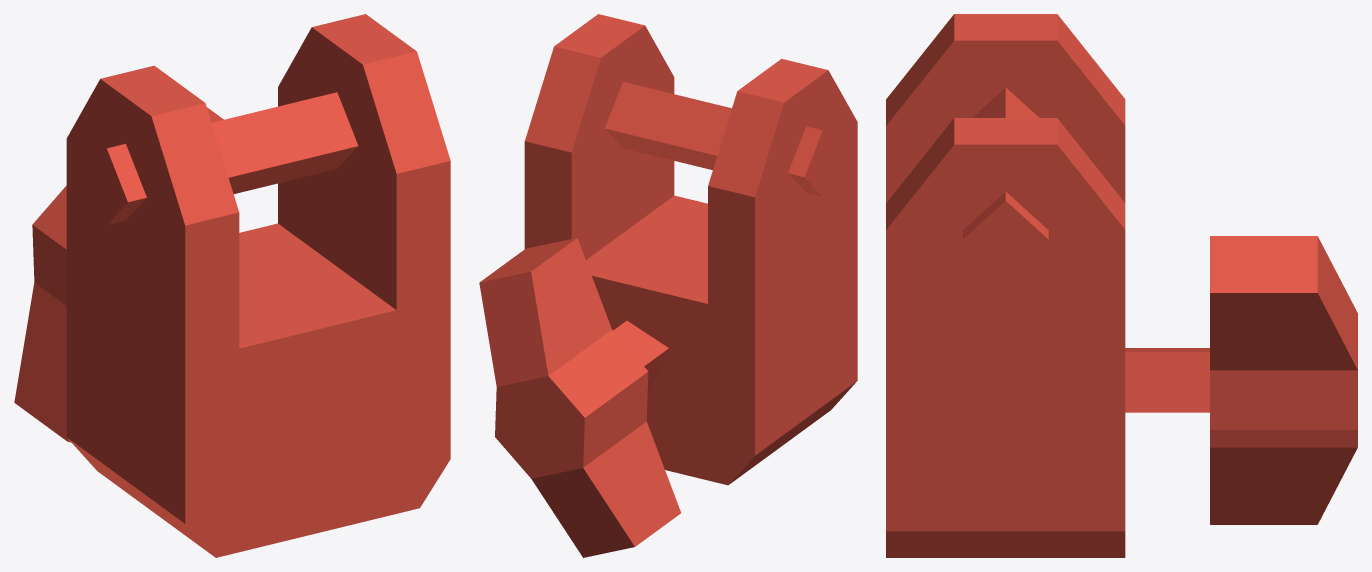
Rendered from SM_Softbox_Rectangle_Base.fbx.
3 renders of one model, left to right at view 1: azimuth 30°, elevation 25°; view 2: azimuth 150°, elevation 25°; view 3: azimuth 270°, elevation 25°, orthographic. The views are drawn at different scales.
Visible parts, largest first — view 1: SM_Softbox_Rectangle_Base; view 2: SM_Softbox_Rectangle_Base; view 3: SM_Softbox_Rectangle_Base.
Part boxes in pixels (left/top/right/bottom): SM_Softbox_Rectangle_Base: left=14, top=14, right=450, bottom=557; SM_Softbox_Rectangle_Base: left=479, top=14, right=857, bottom=557; SM_Softbox_Rectangle_Base: left=886, top=14, right=1357, bottom=557.
Bounding box in the file's own units: 7.24 × 5.43 × 7.79.
